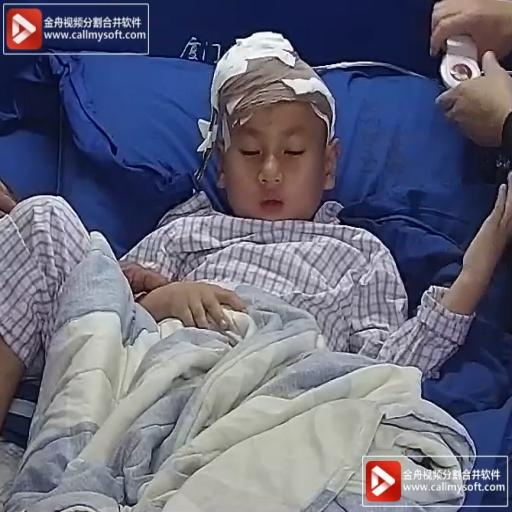Seizure: (180, 26, 357, 229)
